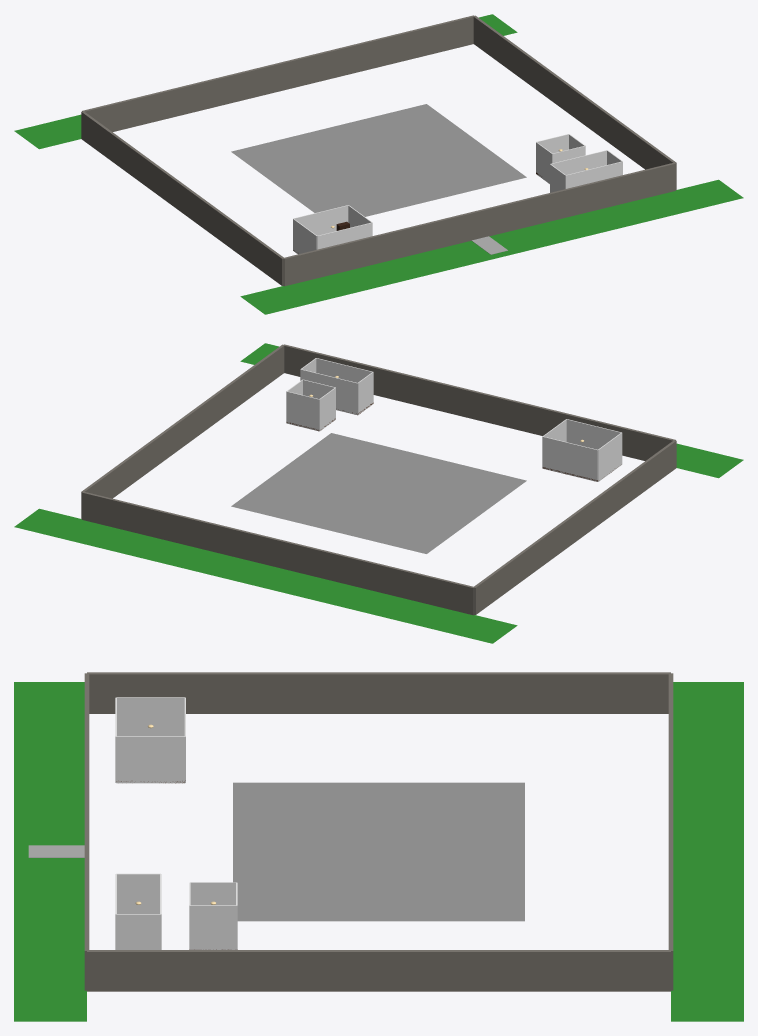
The model's file is enhanced_boq_ac7d6181-f199-49e9-995c-768eff6c37e7.obj.
The picture shows the model from 3 angles, top to bottom: view 1: azimuth 30°, elevation 25°; view 2: azimuth 150°, elevation 25°; view 3: azimuth 270°, elevation 25°; orthographic projection. The views are drawn at different scales.
Visible parts, largest first — view 1: Foundation, ExteriorWall_South, FrontYard, ExteriorWall_North, ExteriorWall_West, ExteriorWall_East, BackYard, NorthWall_Master_Bedroom, SouthWall_Kitchen, SouthWall_Master_Bedroom, NorthWall_Kitchen, WestWall_Master_Bedroom (+1 smaller); view 2: Foundation, BackYard, ExteriorWall_North, ExteriorWall_South, ExteriorWall_West, ExteriorWall_East, NorthWall_Master_Bedroom, FrontYard, NorthWall_Bathroom, NorthWall_Kitchen, SouthWall_Master_Bedroom, WestWall_Master_Bedroom (+3 smaller); view 3: Foundation, ExteriorWall_East, BackYard, FrontYard, ExteriorWall_West, EastWall_Master_Bedroom, WestWall_Master_Bedroom, EastWall_Bathroom, ExteriorWall_South, ExteriorWall_North, WestWall_Kitchen, EastWall_Kitchen (+2 smaller).
Boxes of the visible parts, box(x1,y1,x2,y2) form: Foundation: box(231, 104, 526, 216); ExteriorWall_South: box(283, 162, 675, 286); FrontYard: box(240, 179, 743, 314); ExteriorWall_North: box(82, 15, 474, 131); ExteriorWall_West: box(81, 111, 283, 285); ExteriorWall_East: box(473, 15, 676, 189); BackYard: box(14, 14, 517, 149); NorthWall_Master_Bedroom: box(293, 205, 348, 235); SouthWall_Kitchen: box(565, 161, 622, 188); SouthWall_Master_Bedroom: box(317, 222, 372, 249); NorthWall_Kitchen: box(551, 150, 606, 174); WestWall_Master_Bedroom: box(293, 218, 316, 254); Foundation: box(231, 433, 526, 553); BackYard: box(14, 508, 517, 643); ExteriorWall_North: box(82, 491, 474, 615); ExteriorWall_South: box(283, 344, 675, 460); ExteriorWall_West: box(473, 440, 676, 614); ExteriorWall_East: box(81, 344, 284, 518); NorthWall_Master_Bedroom: box(542, 436, 597, 481); FrontYard: box(240, 343, 743, 478); NorthWall_Bathroom: box(286, 391, 319, 430); NorthWall_Kitchen: box(300, 369, 357, 414); SouthWall_Master_Bedroom: box(566, 419, 621, 449); WestWall_Master_Bedroom: box(598, 432, 622, 481); Foundation: box(233, 782, 524, 921); ExteriorWall_East: box(87, 950, 670, 991); BackYard: box(671, 682, 743, 1021); FrontYard: box(14, 682, 86, 1021); ExteriorWall_West: box(87, 672, 670, 713); EastWall_Master_Bedroom: box(116, 736, 185, 783); WestWall_Master_Bedroom: box(116, 697, 184, 736); EastWall_Bathroom: box(190, 905, 236, 949); ExteriorWall_South: box(84, 673, 89, 990); ExteriorWall_North: box(668, 673, 673, 990); WestWall_Kitchen: box(116, 873, 160, 913); EastWall_Kitchen: box(116, 914, 160, 949).
Size of the model in its own units: 55 by 3.5 by 50.
